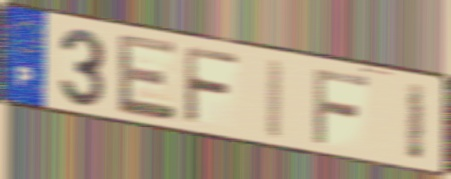3: (58, 26, 107, 109)
E: (114, 30, 178, 123)
F: (181, 43, 242, 129), (311, 65, 371, 147)
I: (262, 55, 288, 143), (404, 79, 429, 164)
